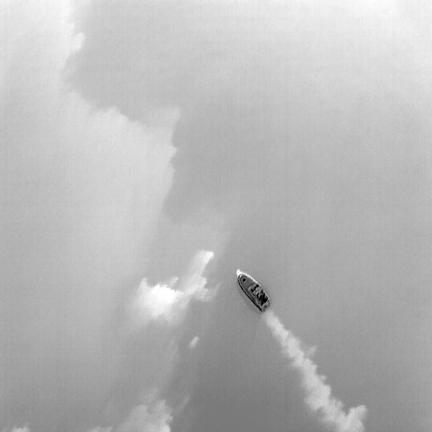flukeprints: (139, 279, 182, 320)
